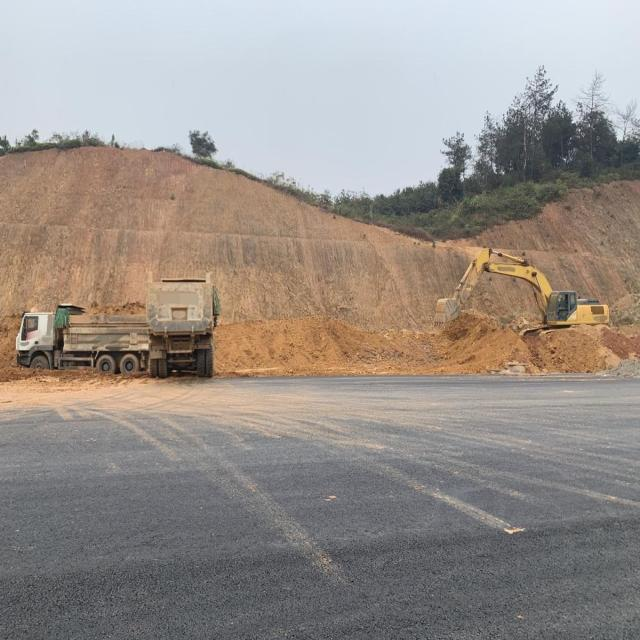excavator: (425, 241, 620, 345)
truck: (11, 300, 160, 388), (141, 274, 222, 390)
